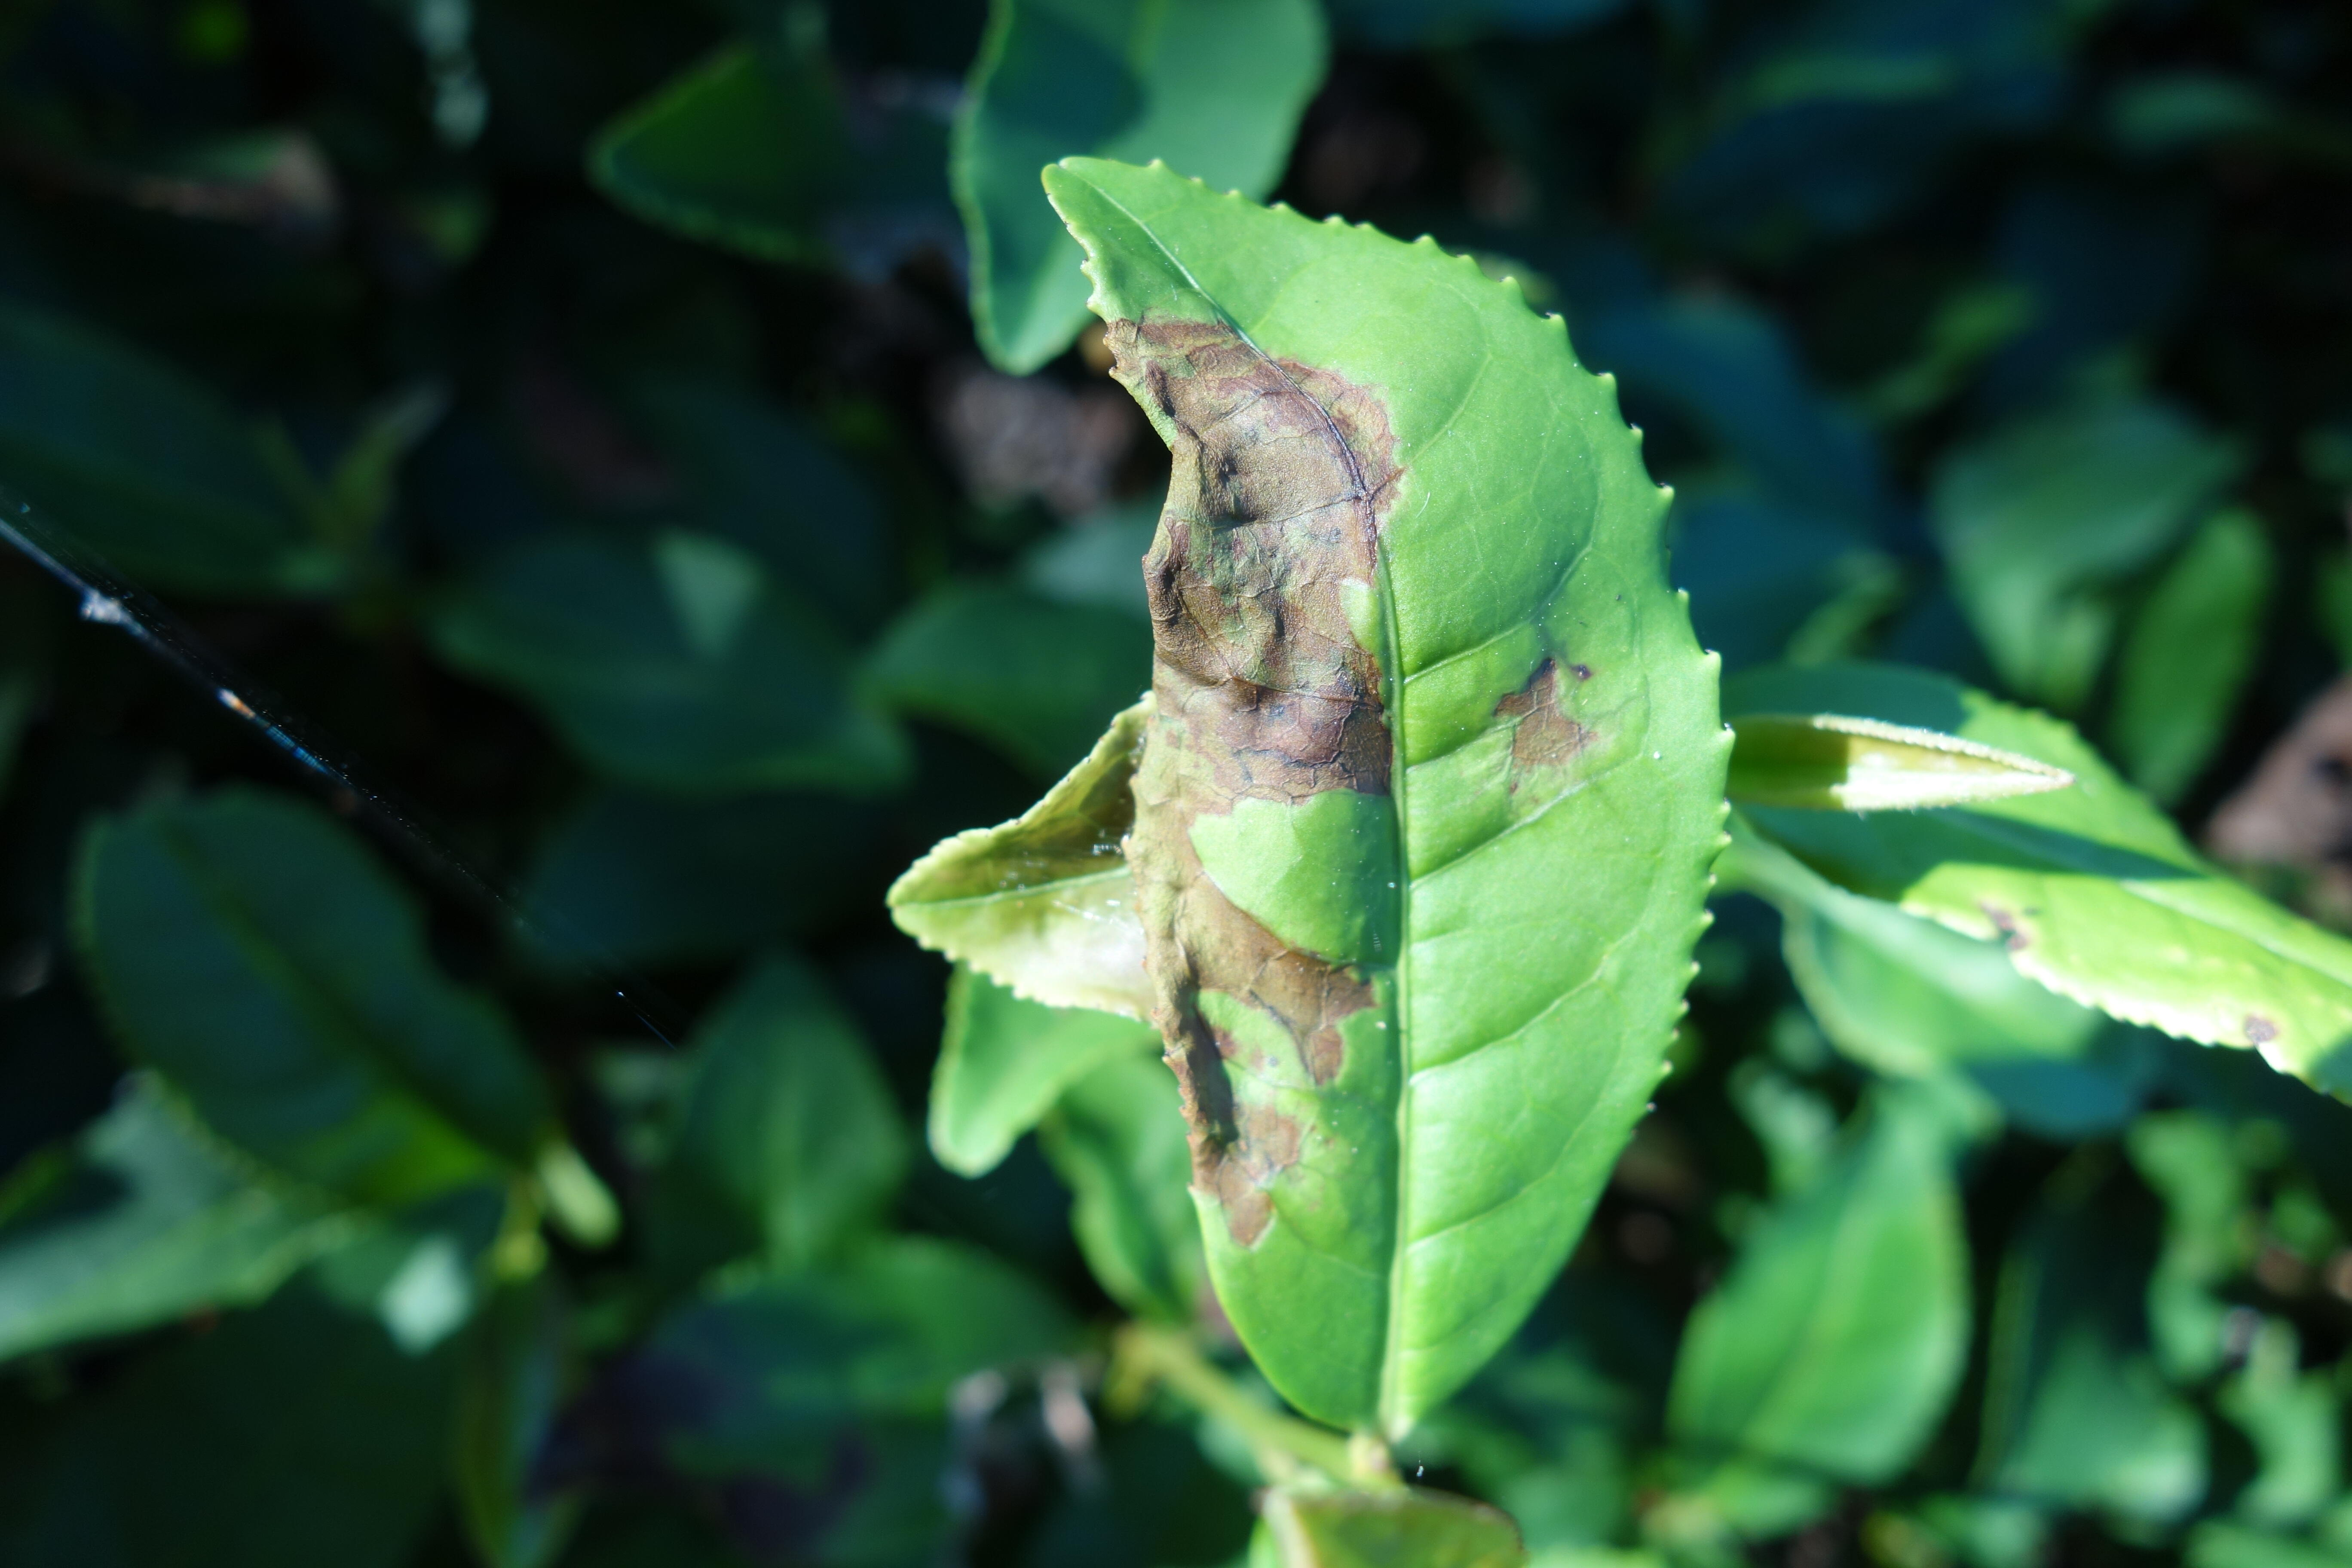tanju_high: (1039, 157, 1734, 1451)
